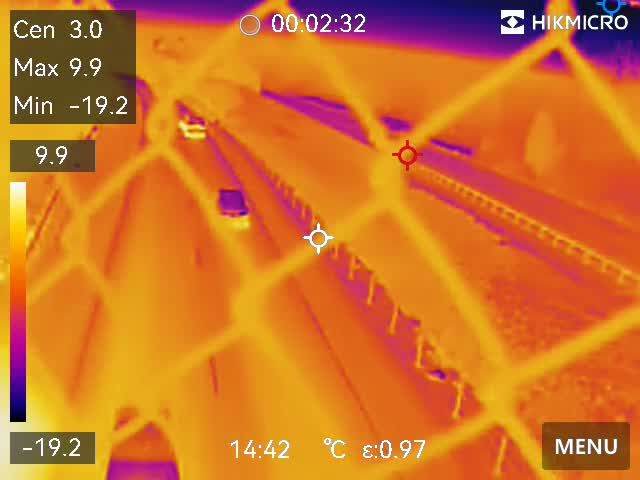vehicle: (207, 187, 253, 232), (177, 113, 210, 148)
